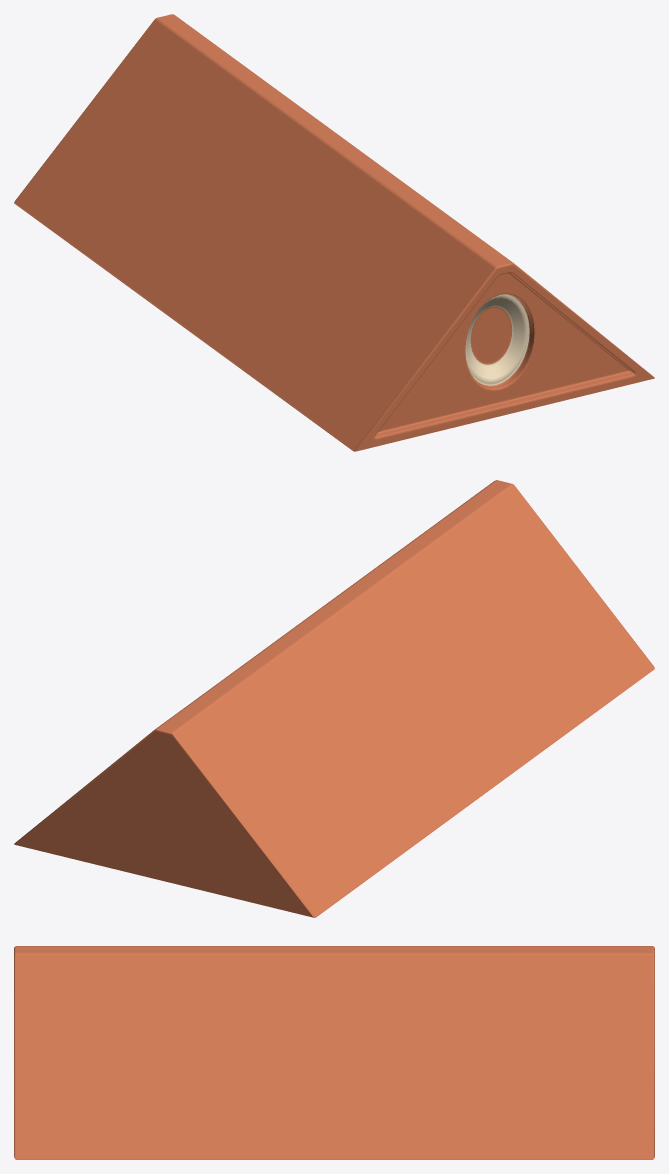
The model's file is Top2House2.fbx.
3 renders of one model, top to bottom at view 1: azimuth 30°, elevation 25°; view 2: azimuth 150°, elevation 25°; view 3: azimuth 270°, elevation 25°, orthographic. The views are drawn at different scales.
Parts seen in each view (by area): view 1: Plane.001; view 2: Plane.001; view 3: Plane.001.
Boxes of the visible parts, x1,y1,x2,y2 form: Plane.001: (14, 14, 654, 451); Plane.001: (14, 480, 654, 917); Plane.001: (14, 946, 654, 1159).
Size of the model in its own units: 298 by 142 by 585.
